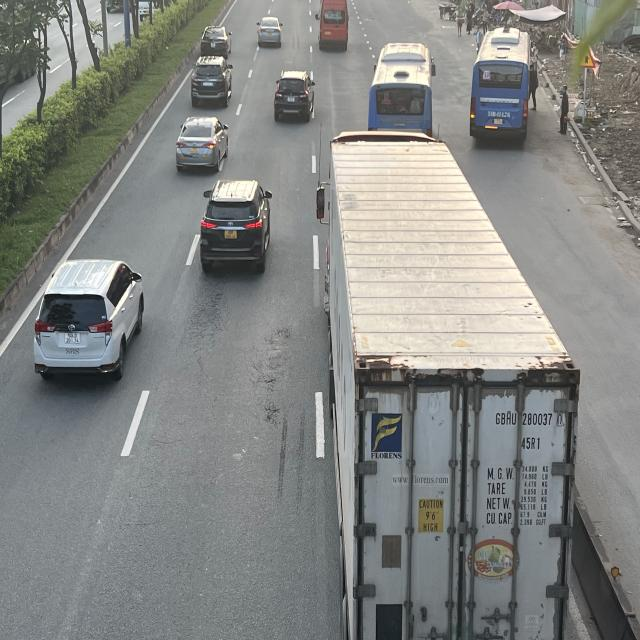car: (30, 256, 144, 378), (196, 180, 271, 275), (175, 118, 229, 174), (272, 69, 316, 122), (192, 57, 235, 108), (199, 24, 232, 63), (257, 16, 284, 48)
coach: (470, 28, 531, 140), (366, 42, 433, 140)
container: (318, 130, 584, 636)
van: (316, 0, 348, 49)
